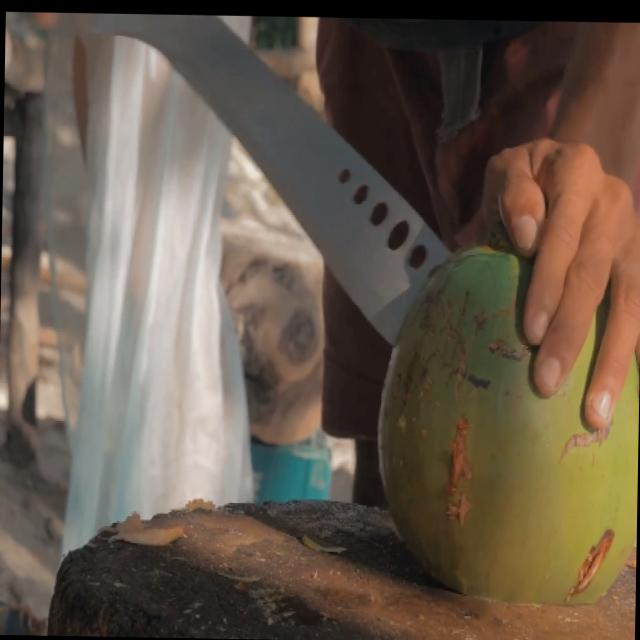knife: (72, 13, 452, 344)
